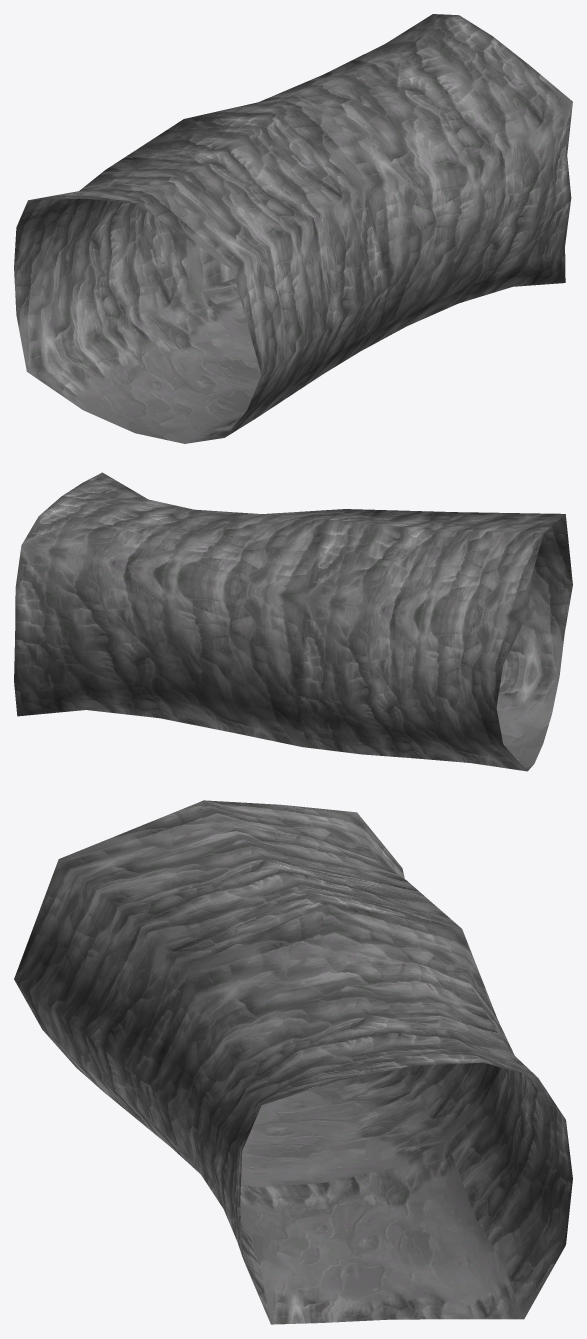
The model's file is SWORDLIGHT20_PS-AREA01_04.fbx.
The picture shows the model from 3 angles, top to bottom: view 1: azimuth 30°, elevation 25°; view 2: azimuth 150°, elevation 25°; view 3: azimuth 270°, elevation 25°; orthographic projection. The views are drawn at different scales.
Visible parts, largest first — view 1: SWORDLIGHT20_PS-AREA01_04; view 2: SWORDLIGHT20_PS-AREA01_04; view 3: SWORDLIGHT20_PS-AREA01_04.
Part boxes in pixels (left/top/right/bottom): SWORDLIGHT20_PS-AREA01_04: left=14, top=14, right=572, bottom=443; SWORDLIGHT20_PS-AREA01_04: left=14, top=472, right=572, bottom=771; SWORDLIGHT20_PS-AREA01_04: left=14, top=800, right=572, bottom=1324.
Size of the model in its own units: 190438 by 85134 by 150698.
3 materials, 3 textured.
